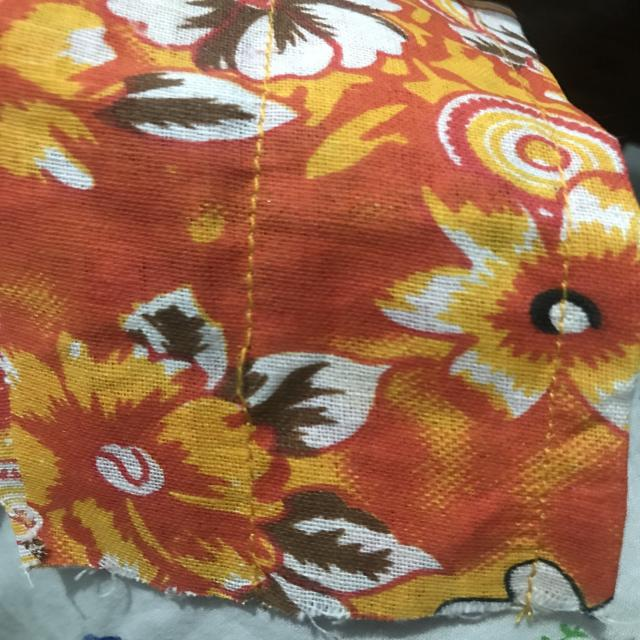good: (236, 182, 277, 308)
skip: (218, 334, 274, 426)
